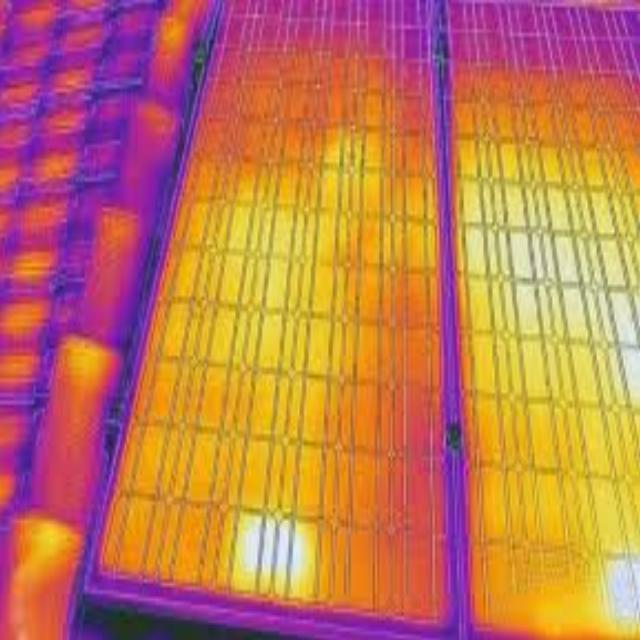hotspot group: (481, 173, 640, 437), (228, 475, 319, 593), (593, 530, 640, 630)
panel with hotspots: (79, 1, 463, 635), (443, 0, 640, 640)
